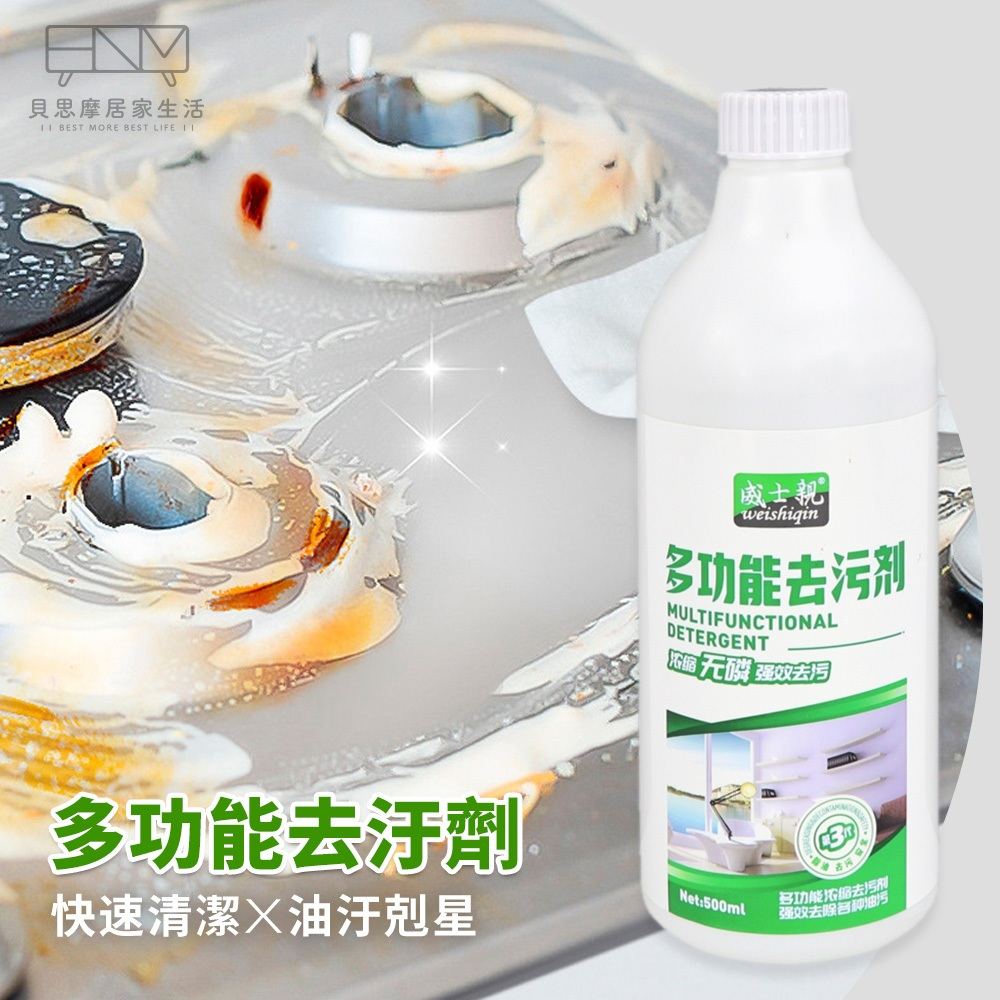cleaner: (636, 76, 954, 967)
